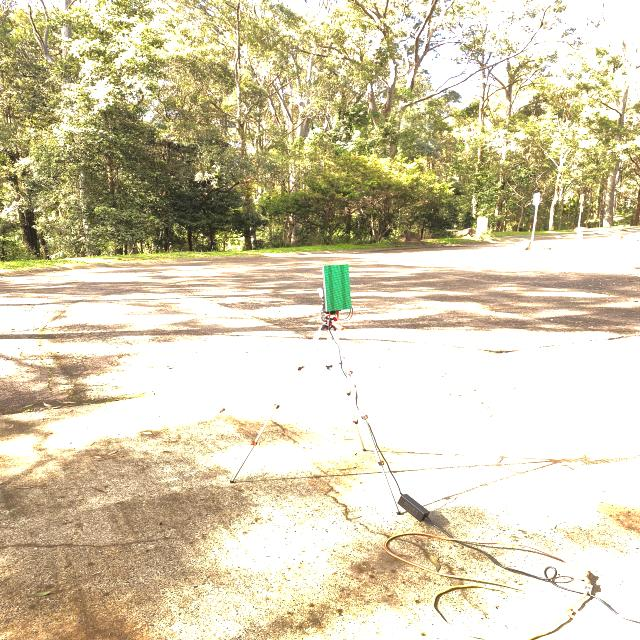matrix: (322, 262, 356, 313)
